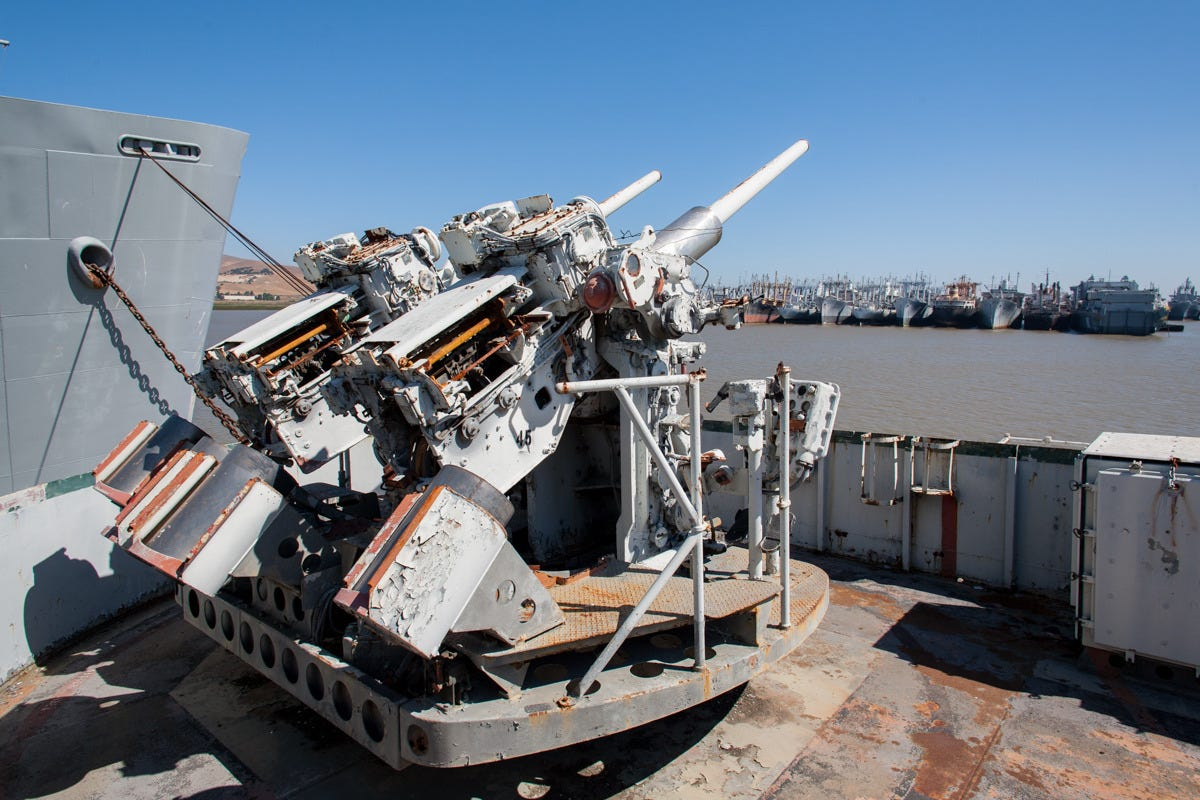rust: (909, 650, 1055, 800), (563, 574, 636, 623), (808, 578, 899, 614)
